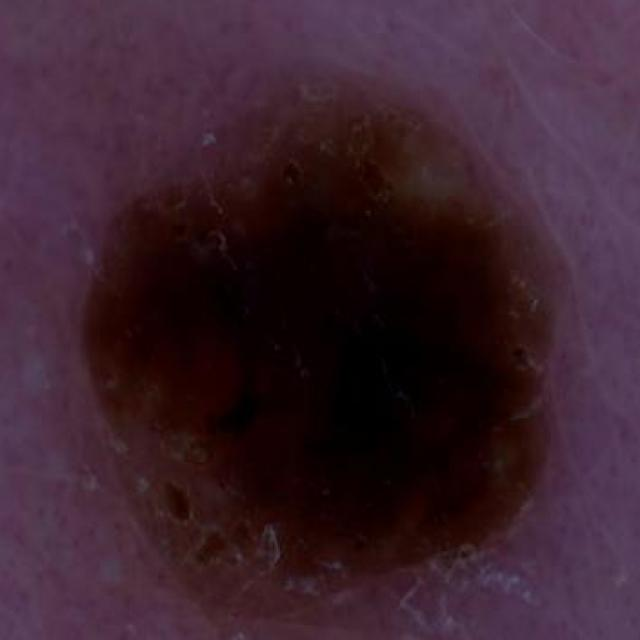BKL: (26, 28, 594, 582)
